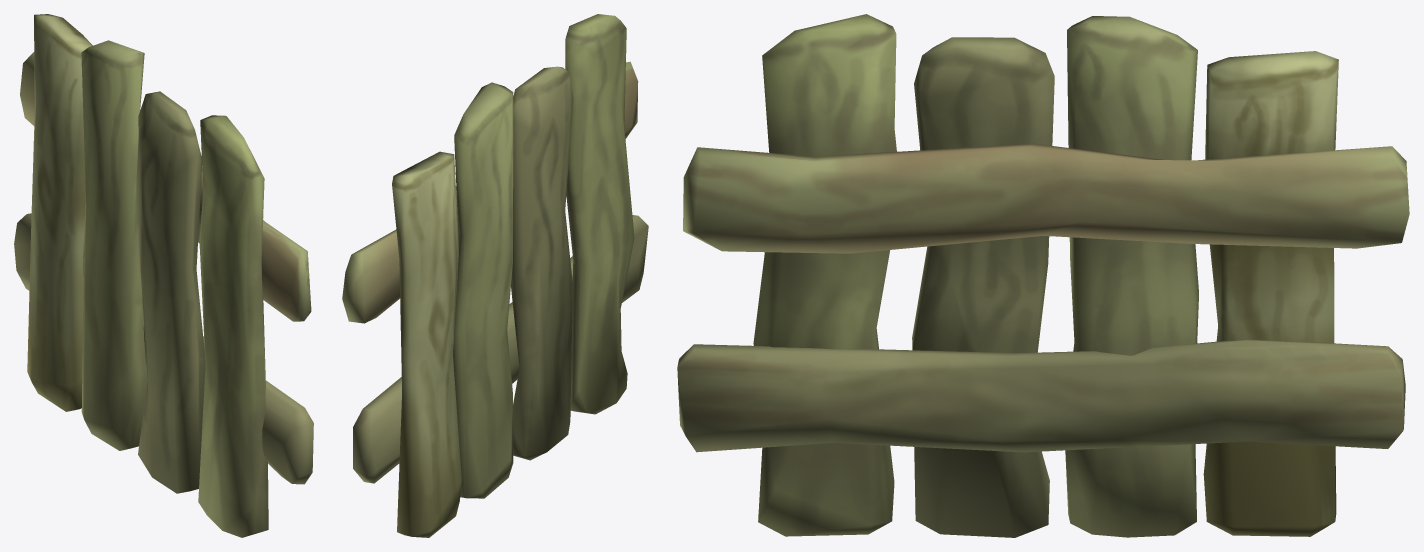
File: woodfence.fbx
3 views of the same model, side by side, from view 1: azimuth 30°, elevation 25°; view 2: azimuth 150°, elevation 25°; view 3: azimuth 270°, elevation 25° (orthographic). The views are drawn at different scales.
Parts seen in each view (by area): view 1: Cube.002; view 2: Cube.002; view 3: Cube.002.
Boxes of the visible parts, x1,y1,x2,y2 form: Cube.002: [14, 14, 313, 537]; Cube.002: [342, 14, 648, 537]; Cube.002: [677, 14, 1409, 537].
Bounding box in the file's own units: 1087 × 117 × 841.
Materials: 1 (1 with a texture image).
